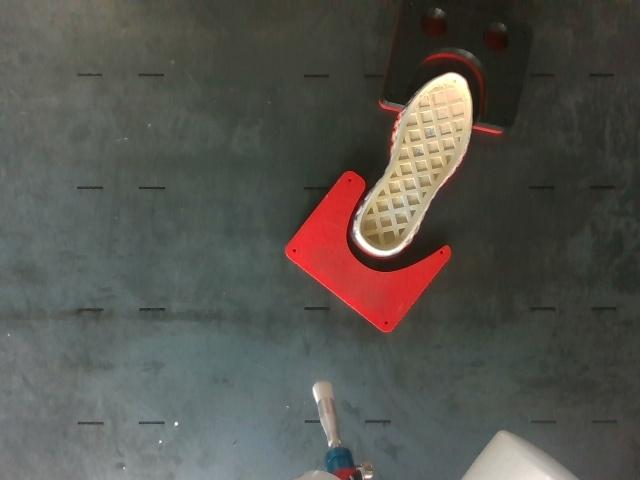shoes: (359, 74, 470, 251)
